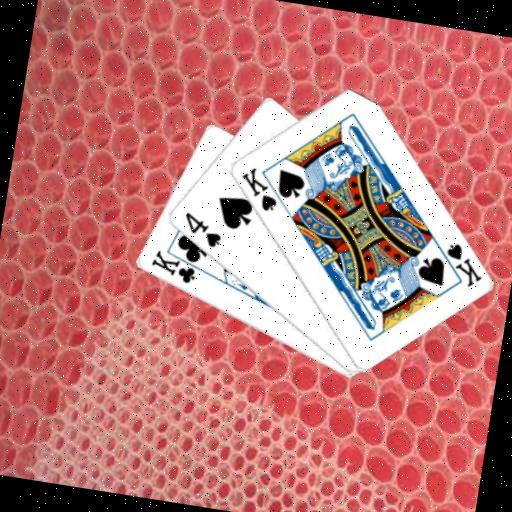4S: (177, 208, 226, 251)
KC: (146, 243, 208, 287)
KS: (429, 236, 488, 290), (233, 162, 283, 214)
